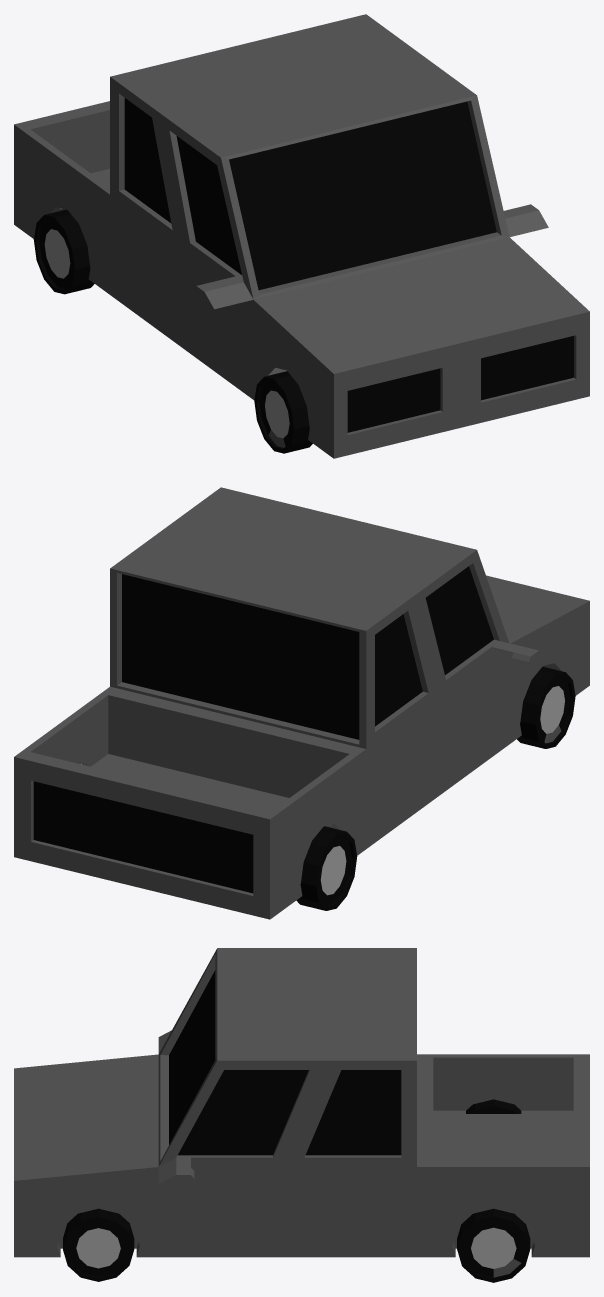
Rendered from voiture2.fbx.
3 views of the same model, one above another, from view 1: azimuth 30°, elevation 25°; view 2: azimuth 150°, elevation 25°; view 3: azimuth 270°, elevation 25° (orthographic). The views are drawn at different scales.
Visible parts, largest first — view 1: Cylinder; view 2: Cylinder; view 3: Cylinder.
Boxes of the visible parts, x1,y1,x2,y2 form: Cylinder: (14, 14, 589, 458); Cylinder: (14, 487, 589, 919); Cylinder: (14, 948, 589, 1282).
Bounding box in the file's own units: 842 × 585 × 1394.
